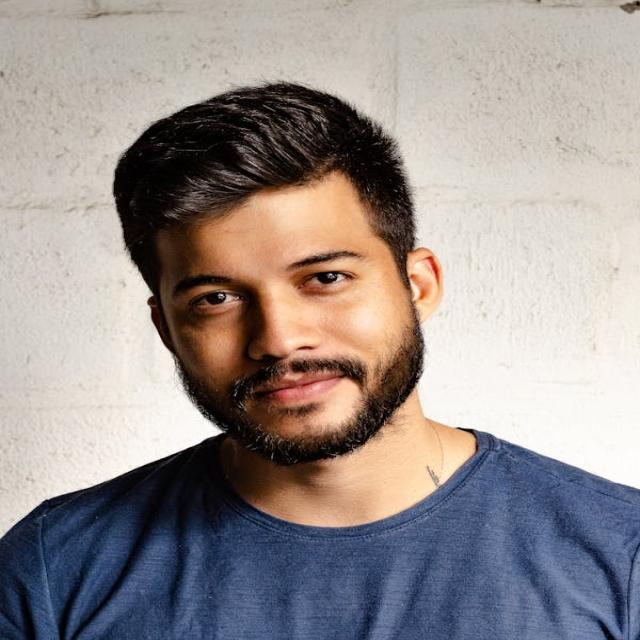no_mask: (114, 141, 475, 487)
